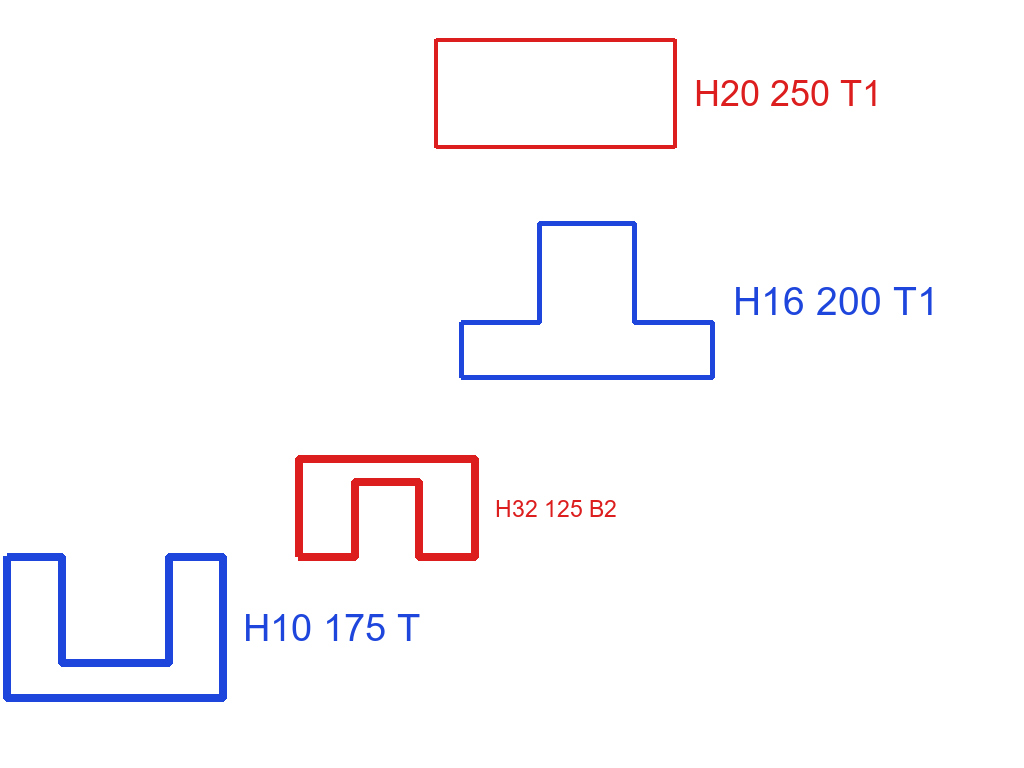shape: (457, 219, 717, 382), (2, 551, 229, 704), (433, 35, 678, 151), (293, 454, 481, 562)
text: (731, 285, 941, 317), (692, 78, 884, 108), (241, 612, 422, 643), (493, 498, 619, 519)
